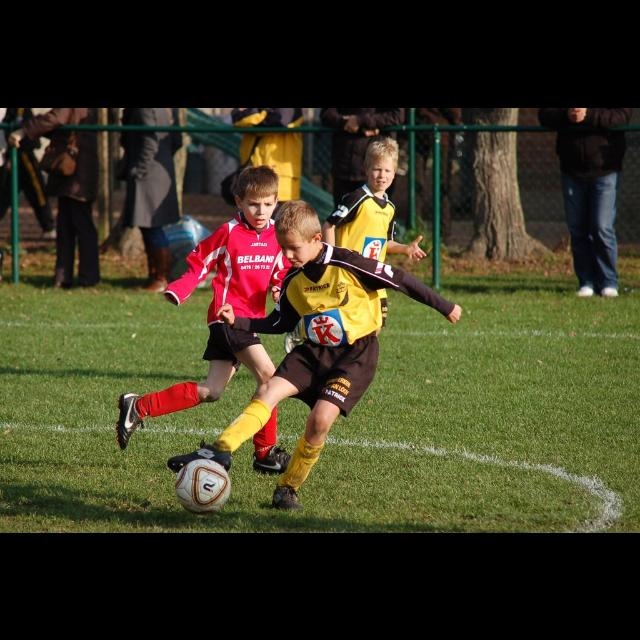Football: (170, 458, 232, 514)
